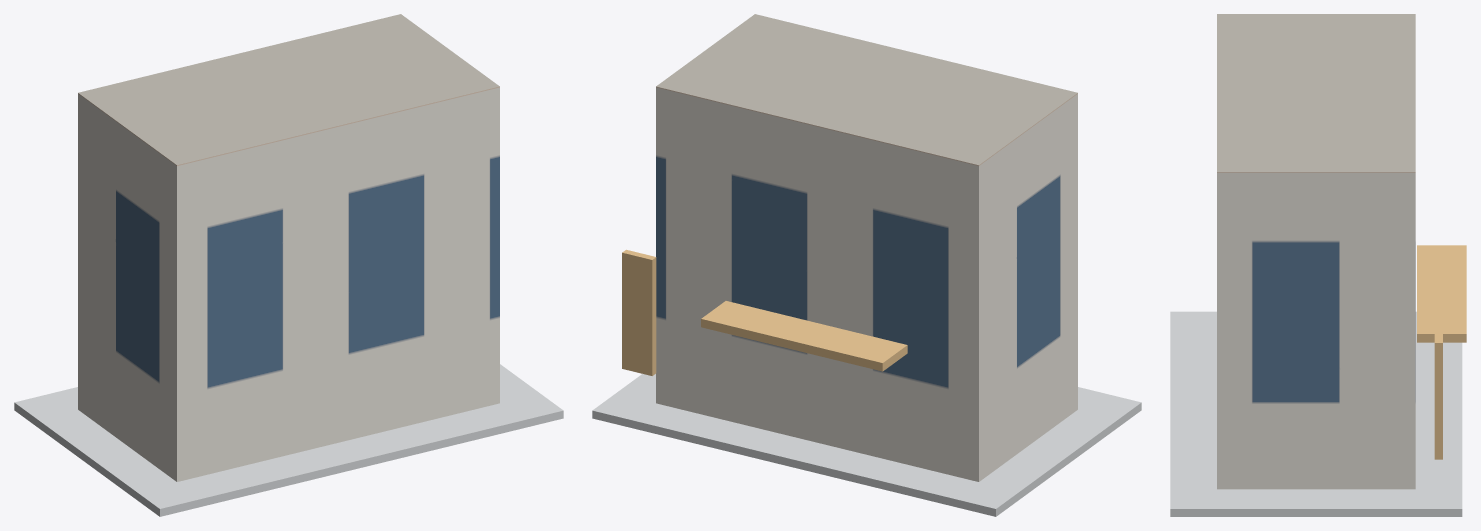
The model's file is Area_diner.glb.
3 views of the same model, side by side, from view 1: azimuth 30°, elevation 25°; view 2: azimuth 150°, elevation 25°; view 3: azimuth 270°, elevation 25° (orthographic).
Parts seen in each view (by area): view 1: bldg_diner, platform.002; view 2: bldg_diner, platform.002, awning, vsign; view 3: bldg_diner, platform.002, awning, vsign.
Part boxes in pixels (x1,y1,x2,y2): bldg_diner: [78, 14, 499, 481]; platform.002: [14, 364, 563, 516]; bldg_diner: [656, 14, 1077, 481]; platform.002: [592, 374, 1141, 516]; awning: [701, 301, 907, 371]; vsign: [622, 249, 656, 375]; bldg_diner: [1217, 14, 1415, 489]; platform.002: [1170, 311, 1462, 516]; awning: [1417, 245, 1466, 342]; vsign: [1434, 328, 1442, 459].
Bounding box in the file's own units: 8 × 6.15 × 5.07.
Materials: 4 (1 with a texture image).
